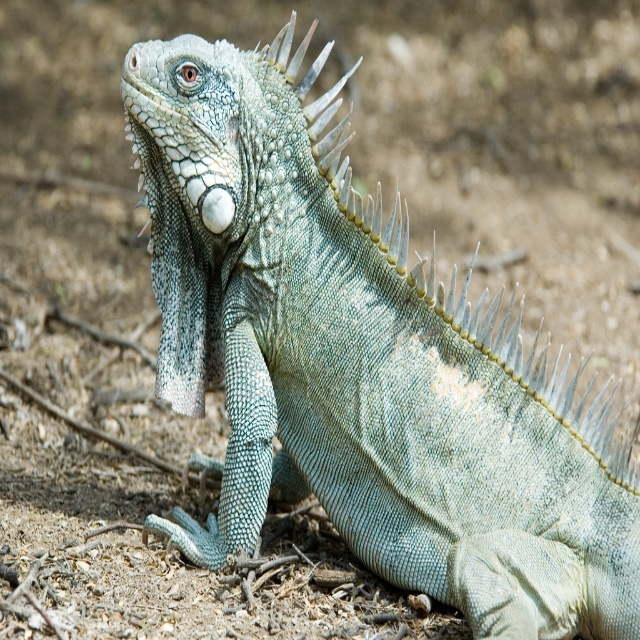Lizard: (120, 10, 640, 640)
